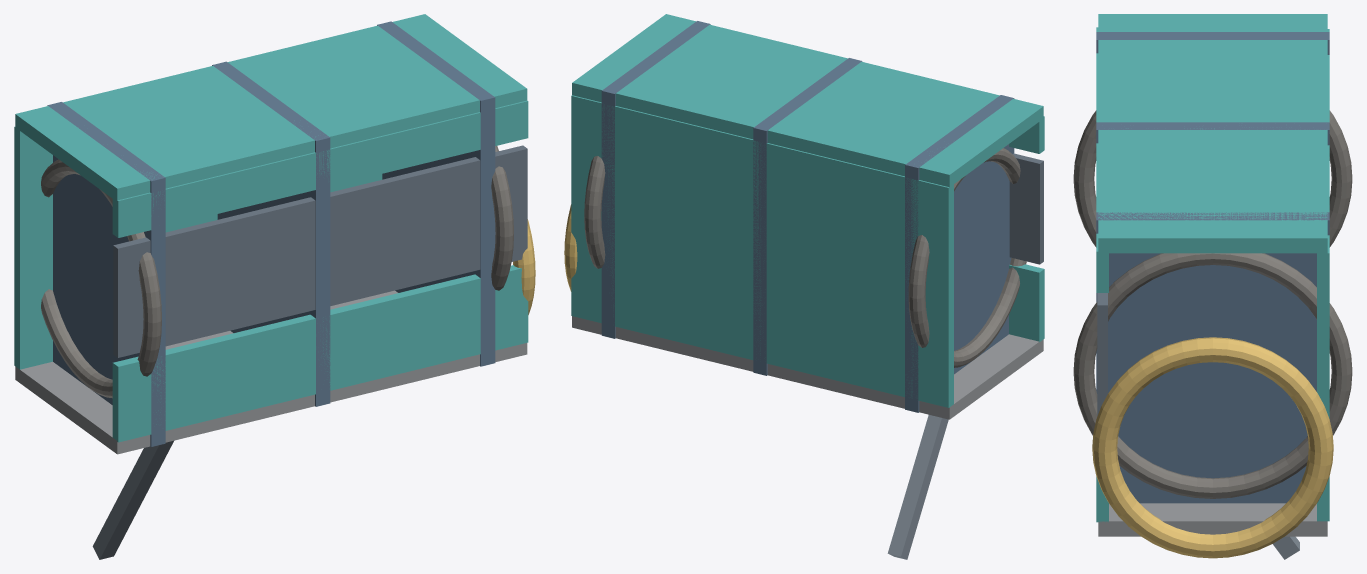
The model's file is boarding-corridor.glb.
The picture shows the model from 3 angles, left to right: view 1: azimuth 30°, elevation 25°; view 2: azimuth 150°, elevation 25°; view 3: azimuth 270°, elevation 25°; orthographic projection. The views are drawn at different scales.
Visible parts, largest first — view 1: Ceiling, WallFrontGlass, WallFrontLow, Rib, WallFrontTop, Floor, WallBack, Rib.001, Rib.002, Bellows.001, Strut, Bellows (+1 smaller); view 2: WallBack, Ceiling, Rib, Floor, Rib.001, Rib.002, Bellows.001, WallFrontGlass, Strut, WallFrontLow, Bellows, WallFrontTop (+1 smaller); view 3: Ceiling, Rib.002, DockRing, Bellows, Floor, Bellows.001, WallBack, Rib.001, Rib, WallFrontGlass, WallFrontTop, Strut (+1 smaller).
Boxes of the visible parts, bbox=[...] form: Ceiling: bbox=[15, 14, 527, 201]; WallFrontGlass: bbox=[113, 145, 527, 357]; WallFrontLow: bbox=[112, 265, 528, 442]; Rib: bbox=[47, 102, 165, 446]; WallFrontTop: bbox=[112, 100, 528, 237]; Floor: bbox=[15, 290, 527, 454]; WallBack: bbox=[14, 126, 382, 369]; Rib.001: bbox=[212, 61, 330, 406]; Rib.002: bbox=[377, 21, 495, 366]; Bellows.001: bbox=[41, 159, 161, 398]; Strut: bbox=[92, 440, 173, 559]; Bellows: bbox=[491, 146, 513, 290]; WallBack: bbox=[571, 95, 953, 407]; Ceiling: bbox=[572, 14, 1043, 187]; Rib: bbox=[905, 95, 1014, 412]; Floor: bbox=[572, 316, 1043, 419]; Rib.001: bbox=[753, 58, 862, 375]; Rib.002: bbox=[601, 21, 710, 338]; Bellows.001: bbox=[908, 148, 1026, 367]; WallFrontGlass: bbox=[1009, 153, 1043, 264]; Strut: bbox=[887, 415, 948, 559]; WallFrontLow: bbox=[1009, 264, 1044, 342]; Bellows: bbox=[584, 156, 605, 268]; WallFrontTop: bbox=[1009, 116, 1044, 153]; Ceiling: bbox=[1098, 14, 1327, 253]; Rib.002: bbox=[1096, 212, 1329, 503]; DockRing: bbox=[1092, 337, 1333, 558]; Bellows: bbox=[1073, 253, 1352, 498]; Floor: bbox=[1098, 503, 1327, 536]; Bellows.001: bbox=[1073, 110, 1352, 247]; WallBack: bbox=[1317, 29, 1329, 521]; Rib.001: bbox=[1096, 122, 1329, 145]; Rib: bbox=[1096, 32, 1329, 54]; WallFrontGlass: bbox=[1097, 293, 1107, 415]; WallFrontTop: bbox=[1096, 27, 1108, 292]; Strut: bbox=[1273, 536, 1299, 559].
Size of the model in its own units: 2.61 by 2.66 by 1.34.
